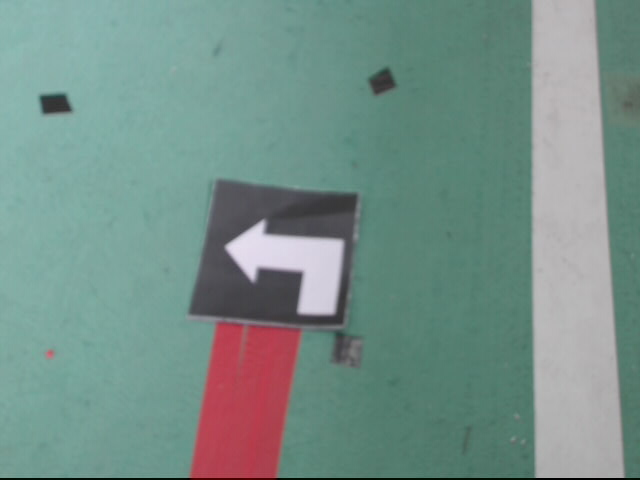left: (188, 176, 361, 331)
